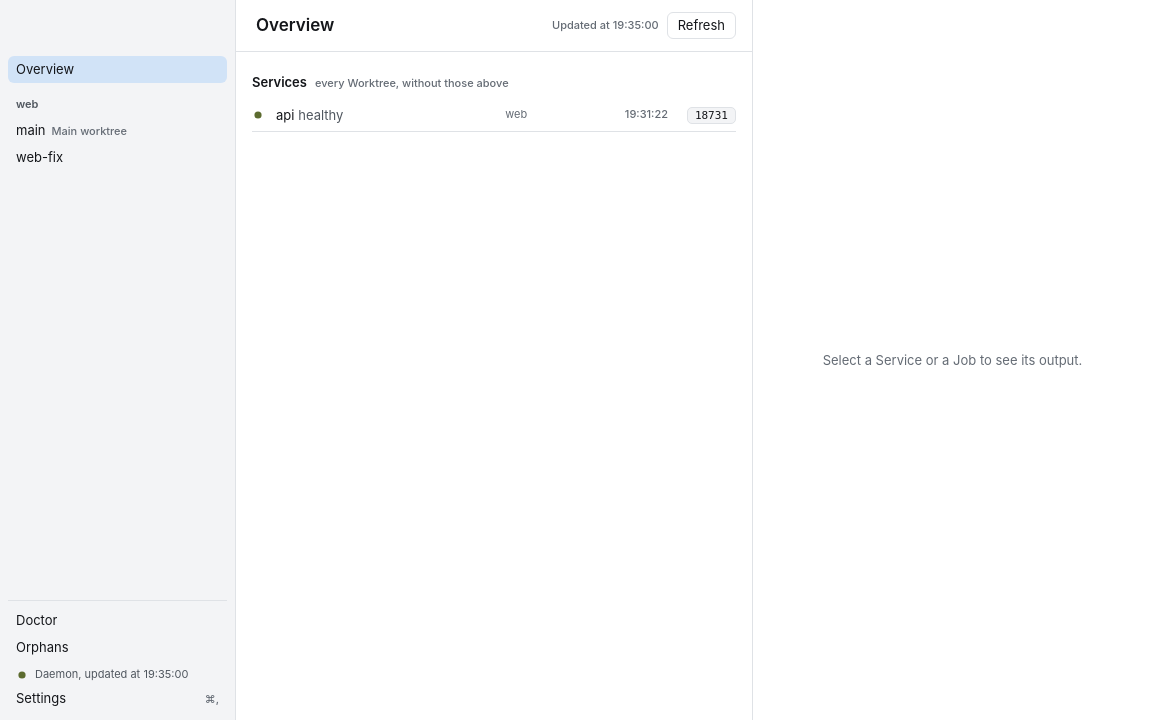
the inspector › states a Job in words
The image size is (1152, 720).
Expected: the heading "Overview" is shown, [256,13,334,38]
Click the button "web-fix": (118, 157) [8,144,227,170]
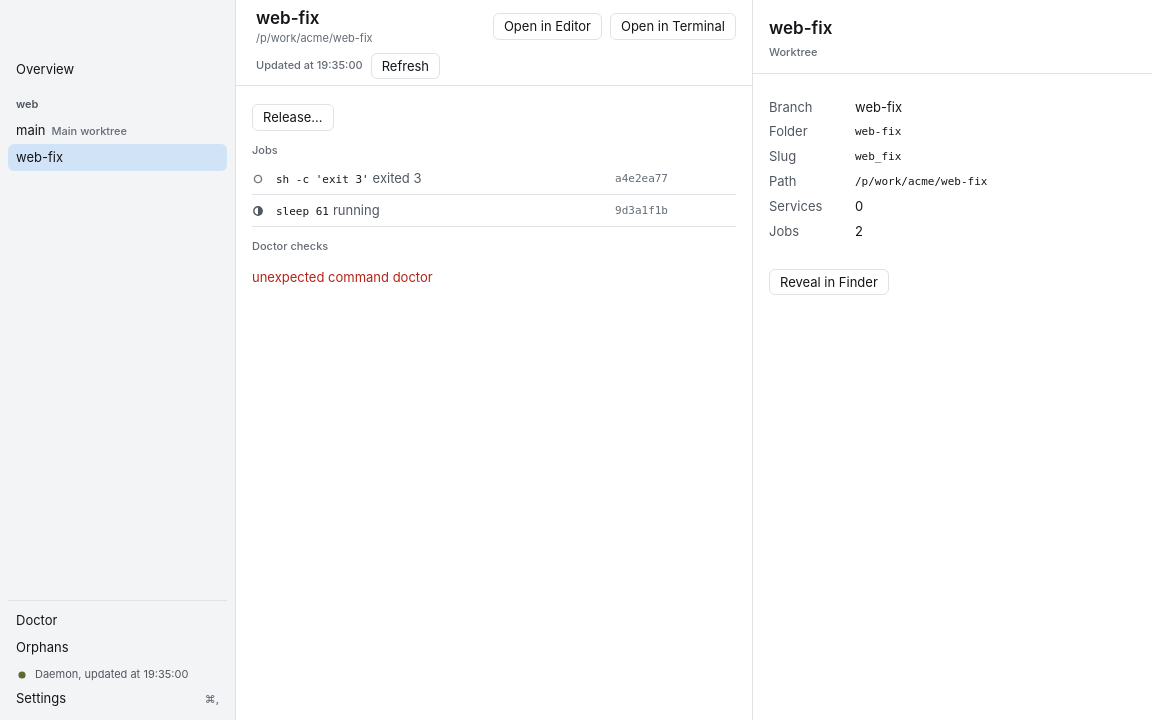
Click the button "sh -c 'exit 3' exited 3 a4e2ea77": (322, 180) [252,169,668,188]
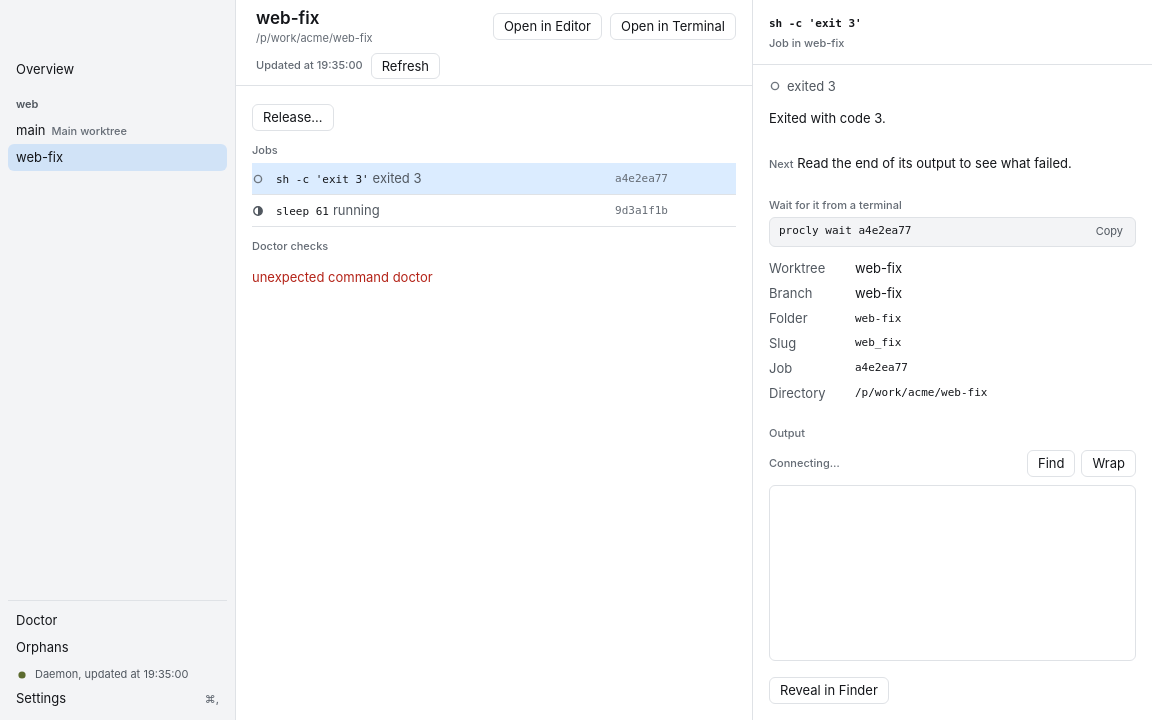
Expected: the text "Exited with code 3." is shown, [769,110,886,126]
Expected: the text "Read the end of its output to see what failed." is shown, [797,155,1072,171]
